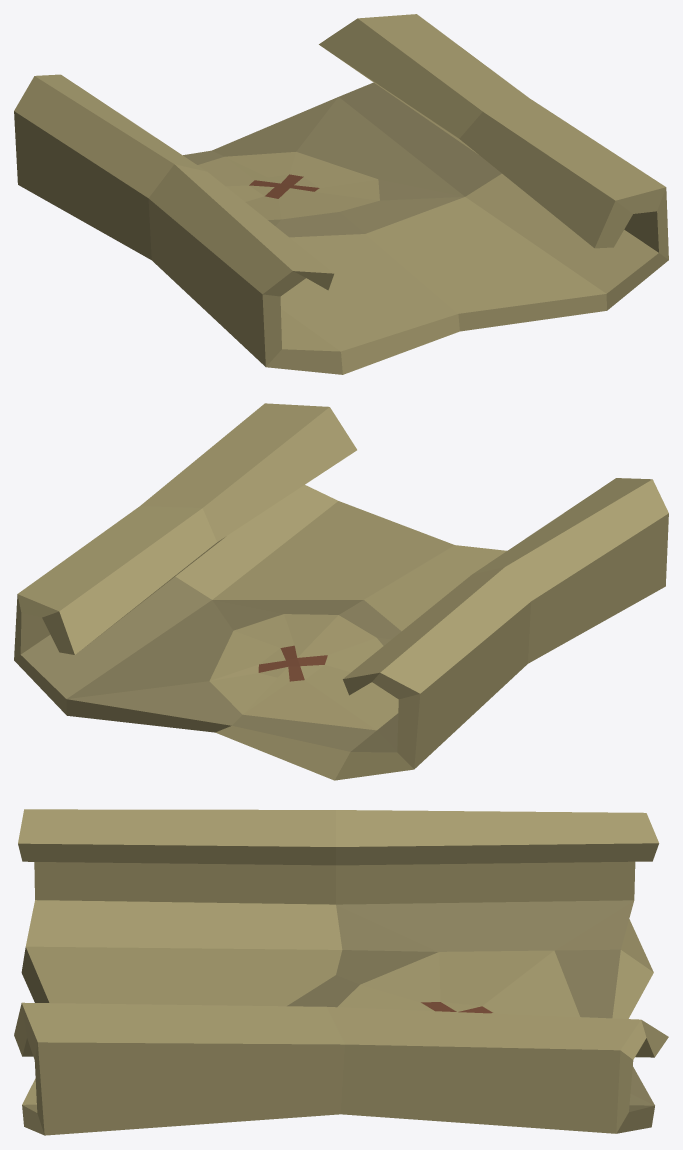
File: Map_1.fbx
3 views of the same model, one above another, from view 1: azimuth 30°, elevation 25°; view 2: azimuth 150°, elevation 25°; view 3: azimuth 270°, elevation 25° (orthographic). The views are drawn at different scales.
Visible parts, largest first — view 1: Map_1; view 2: Map_1; view 3: Map_1.
Part boxes in pixels (x1,y1,x2,y2): Map_1: (14,14,668,374); Map_1: (14,403,668,780); Map_1: (14,809,668,1135).
Size of the model in its own units: 39.01 by 11.21 by 46.
